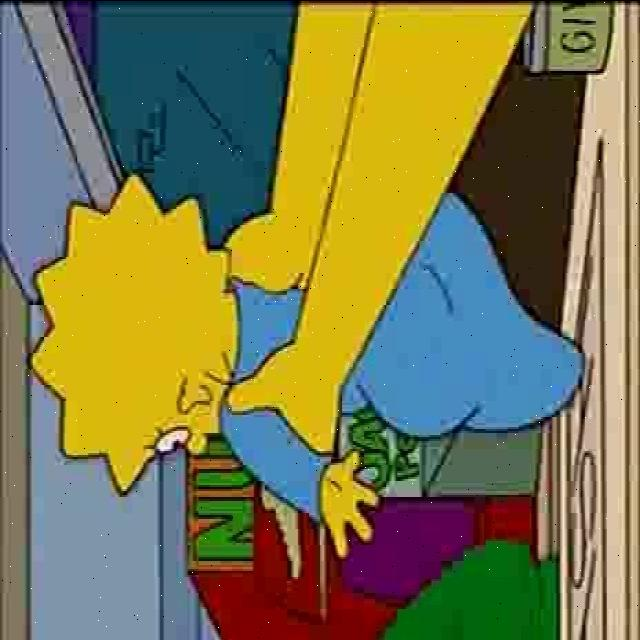Maggie Simpson: (29, 172, 244, 504)
